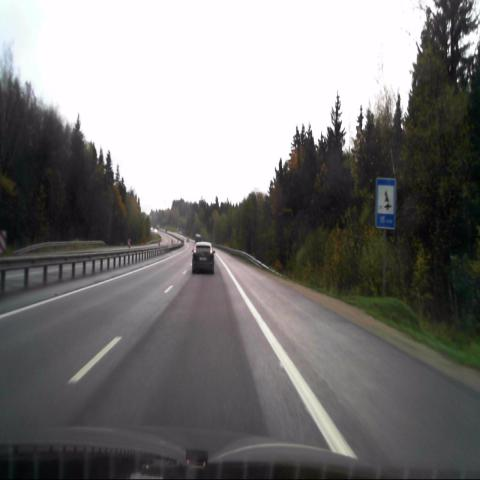7_11: (374, 178, 396, 229)
